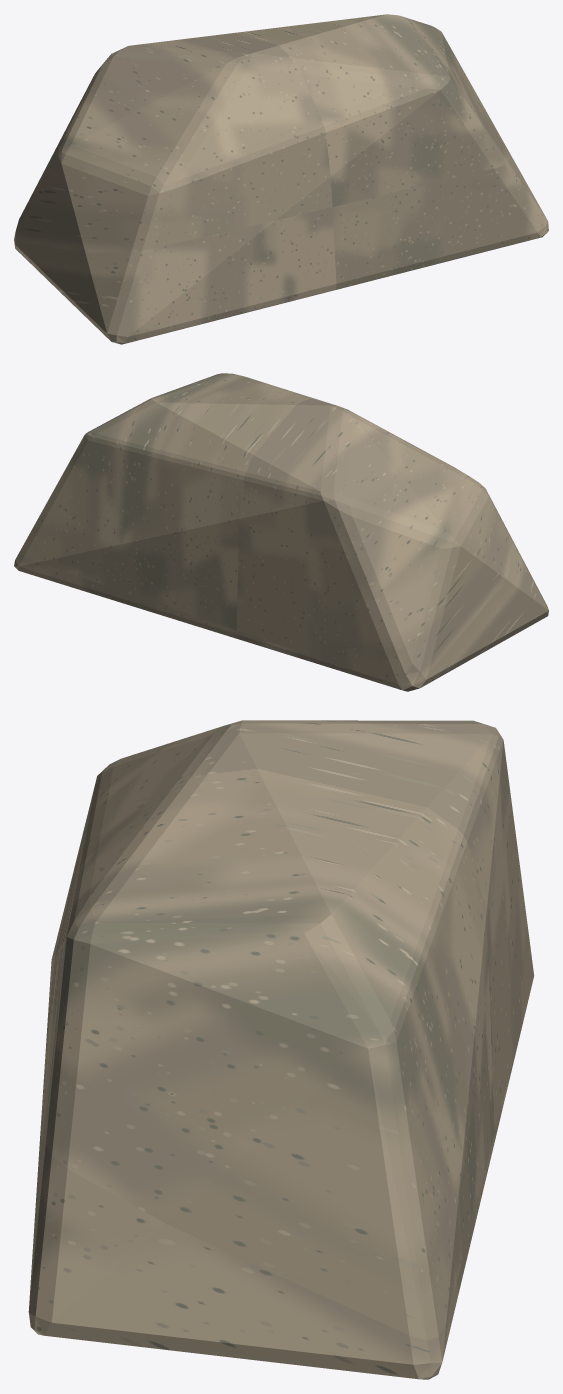
The model's file is Granit_V10_2.fbx.
3 renders of one model, top to bottom at view 1: azimuth 30°, elevation 25°; view 2: azimuth 150°, elevation 25°; view 3: azimuth 270°, elevation 25°, orthographic. The views are drawn at different scales.
Visible parts, largest first — view 1: Granit_V10_2; view 2: Granit_V10_2; view 3: Granit_V10_2.
Part boxes in pixels (<box>): Granit_V10_2: <box>14,14,548,344</box>; Granit_V10_2: <box>14,373,548,691</box>; Granit_V10_2: <box>28,720,534,1379</box>.
Bounding box in the file's own units: 102 × 44.14 × 50.12.
